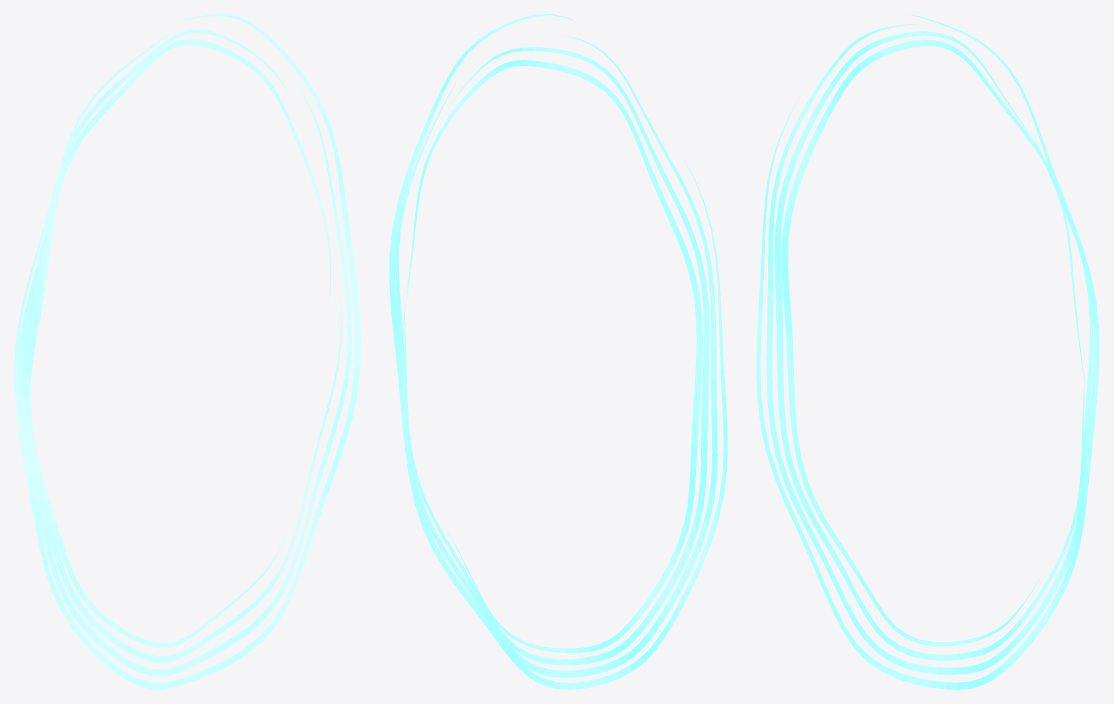
Rendered from aperture.glb.
The picture shows the model from 3 angles, left to right: view 1: azimuth 30°, elevation 25°; view 2: azimuth 150°, elevation 25°; view 3: azimuth 330°, elevation 25°; orthographic projection.
Visible parts, largest first — view 1: aperture; view 2: aperture; view 3: aperture.
Part boxes in pixels (x1=…): aperture: x1=14, y1=14, x2=360, y2=689; aperture: x1=389, y1=14, x2=727, y2=689; aperture: x1=756, y1=14, x2=1099, y2=689.
Bounding box in the file's own units: 1.19 × 2.24 × 0.0979.
